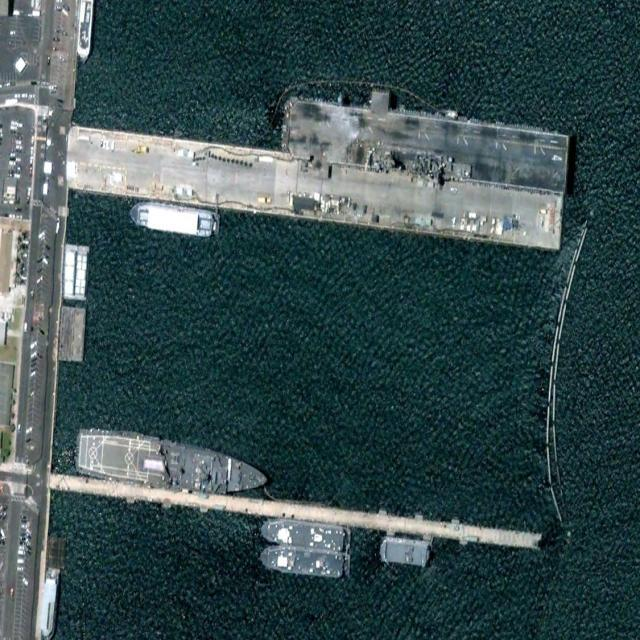Landing: (280, 79, 571, 194), (74, 425, 270, 502)
Other Ship: (129, 198, 221, 239), (259, 516, 352, 552), (258, 544, 350, 579), (379, 538, 432, 569), (40, 568, 60, 640), (76, 1, 95, 67)
